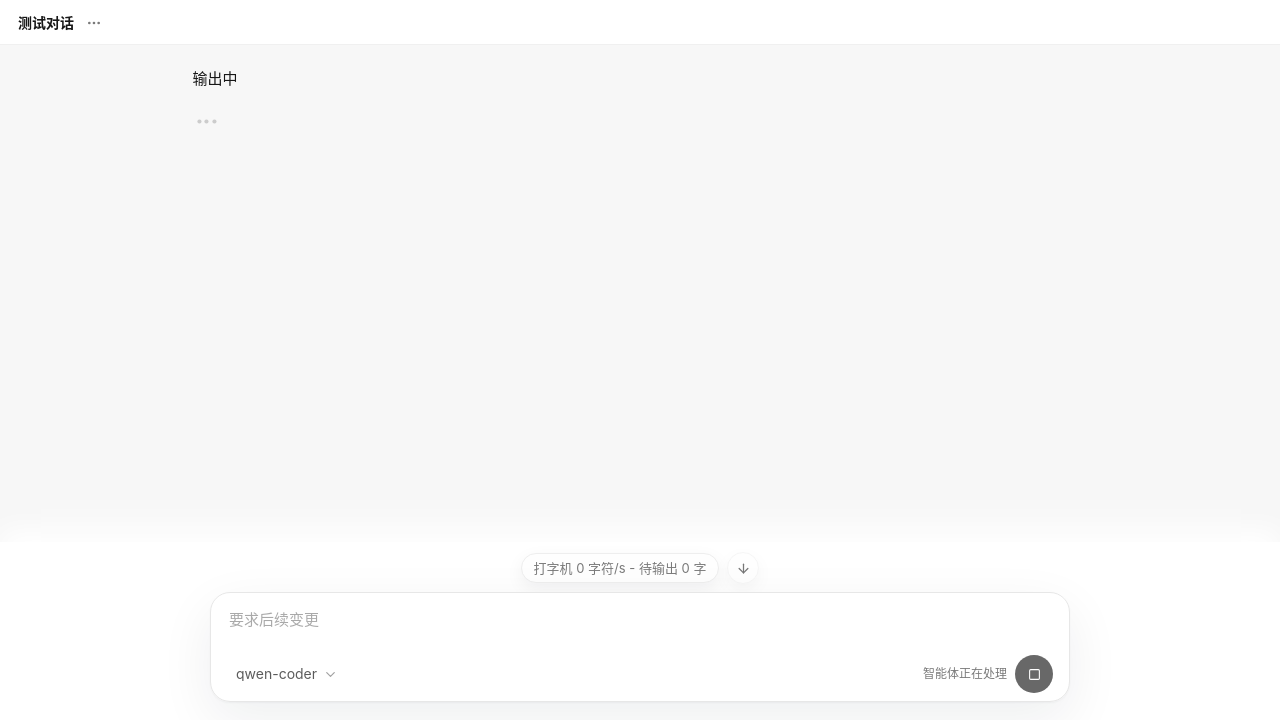
Test: ConversationPage › cancels the active websocket turn and returns to send mode after a cancelled event
The width and height of the screenshot is (1280, 720).
Expected: the text box named "继续输入" is shown, [227,607,1053,655]
Step 1. Click the button named "停止" → [1034, 674], box [1015,655,1053,693]
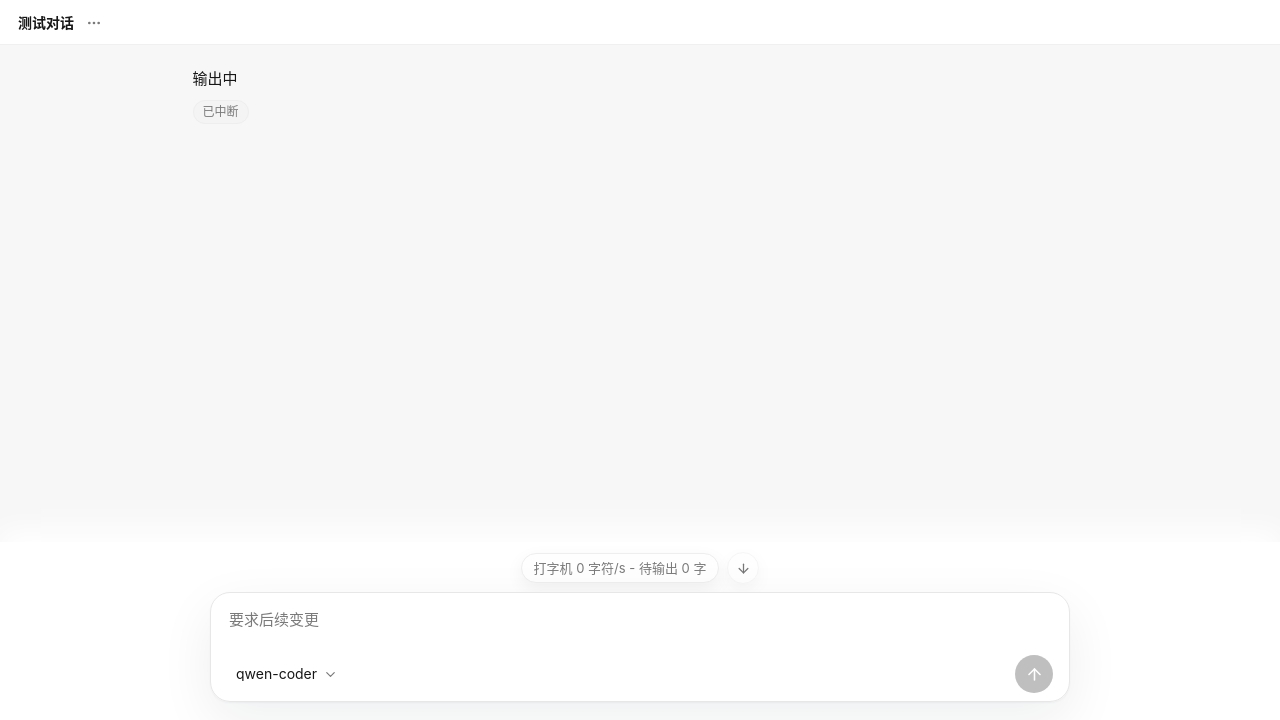
Result: the button named "发送" is shown at [1015,655,1053,693]
Result: the text "已中断" is shown at [192,100,248,124]
